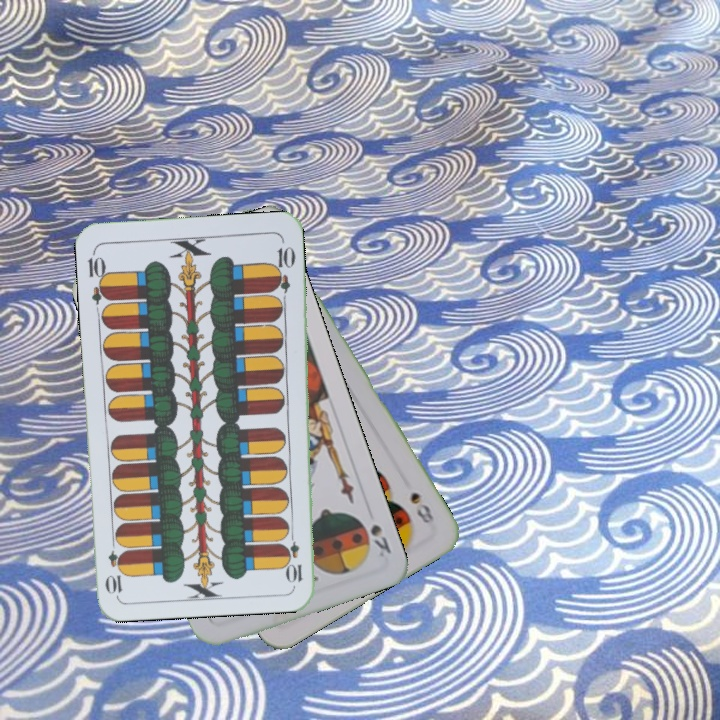E10: (84, 247, 112, 306), (284, 526, 305, 585)
S8: (406, 488, 437, 527)
SK: (366, 520, 394, 560)
